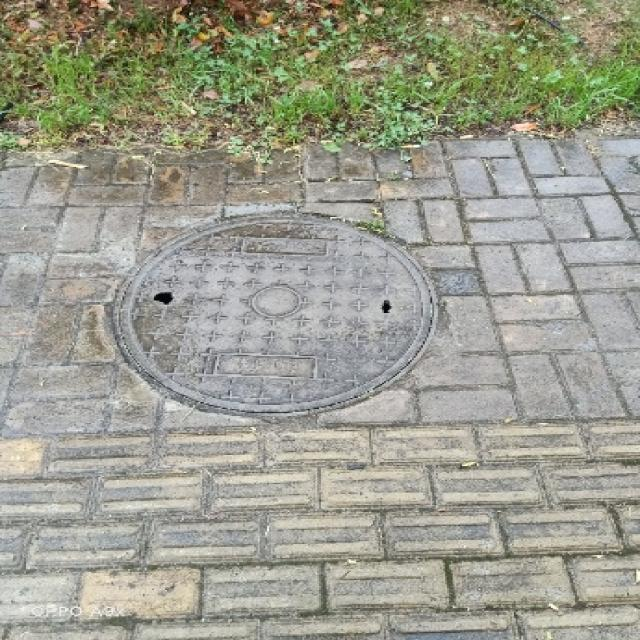Faulty: (91, 208, 468, 428)
